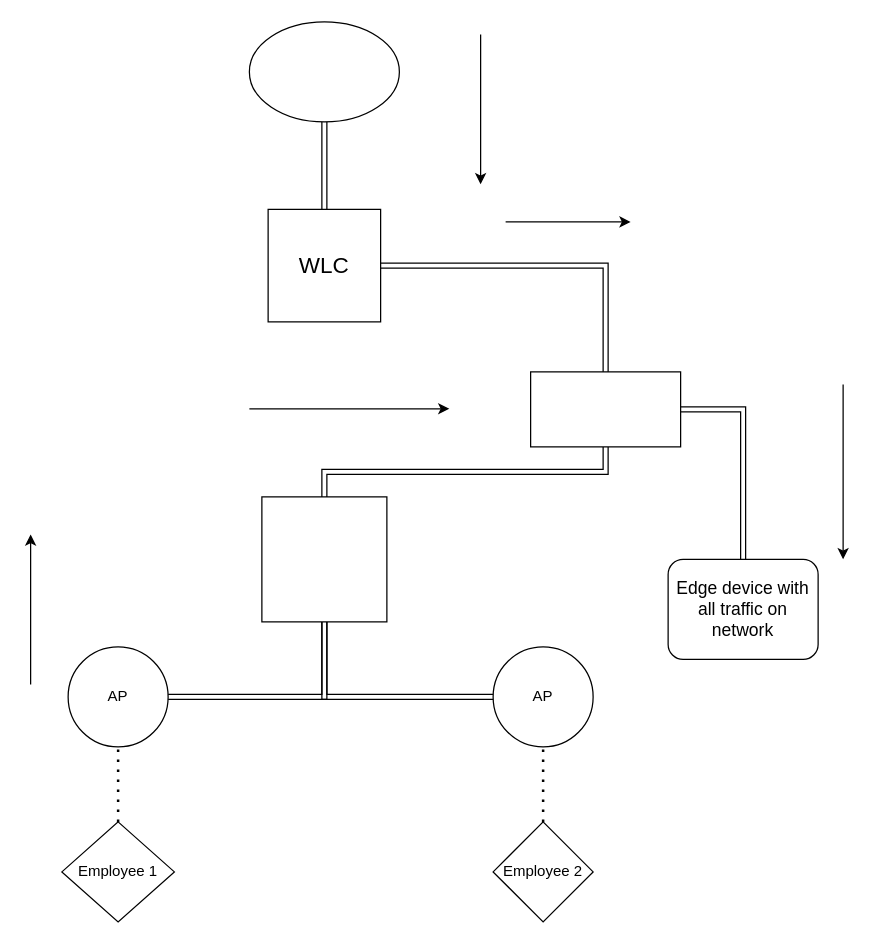
The diagram is 875 pixels wide and 944 high, and some of its shapes have lost their labels. Each missing label, with the centre of its shape:
"Main Switch" belongs at point 324,559.
"Port mirrored switch" belongs at point 605,409.
"Router/gateway" belongs at point 323,71.
